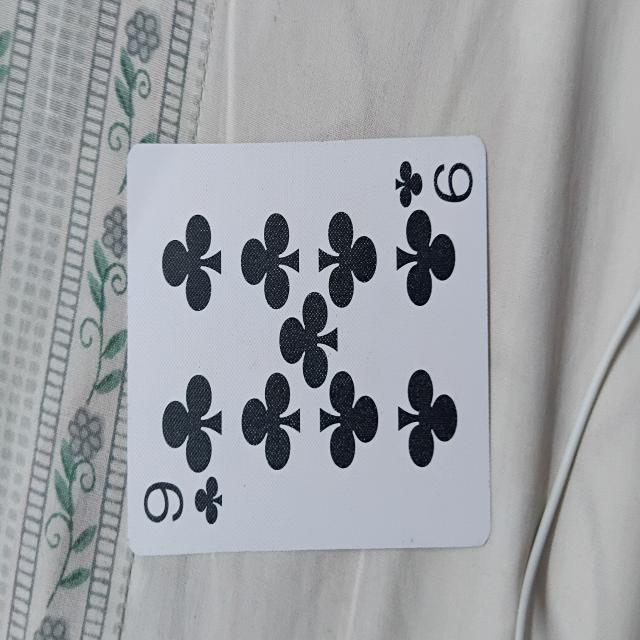9C: (125, 130, 488, 558)
